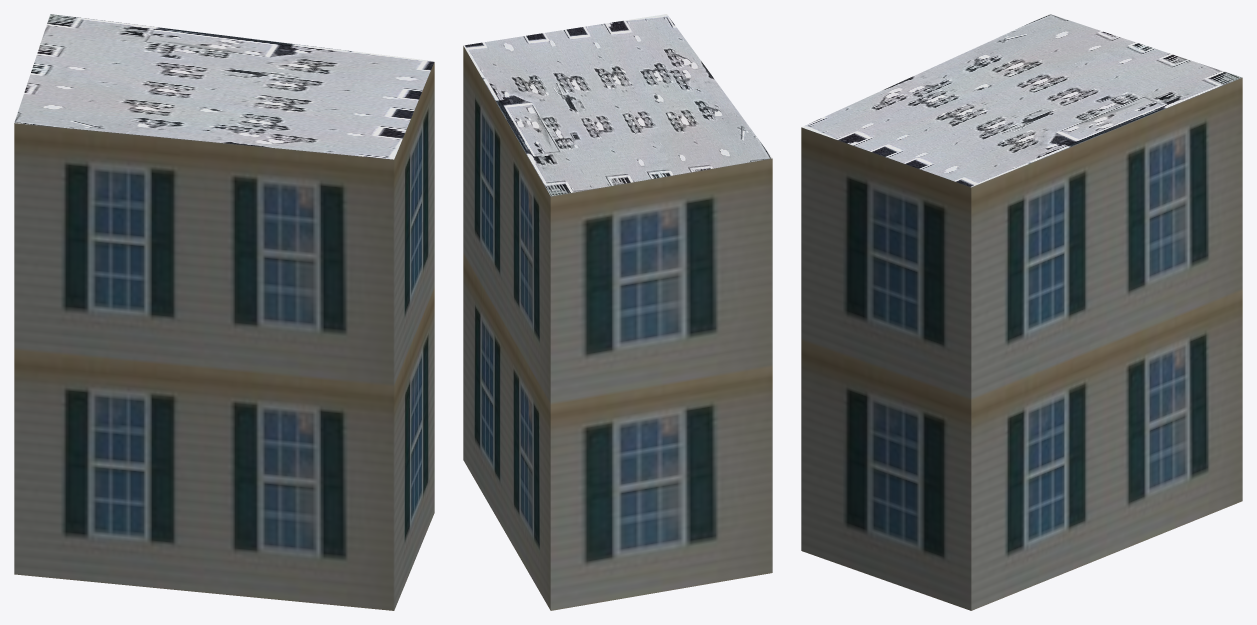
File: ResTex__869.fbx
3 views of the same model, side by side, from view 1: azimuth 30°, elevation 25°; view 2: azimuth 150°, elevation 25°; view 3: azimuth 270°, elevation 25° (orthographic). The views are drawn at different scales.
Visible parts, largest first — view 1: CityEngineMaterial_7_m, CityEngineMaterial_m; view 2: CityEngineMaterial_7_m, CityEngineMaterial_m; view 3: CityEngineMaterial_7_m, CityEngineMaterial_m.
Part boxes in pixels (x1,y1,x2,y2): CityEngineMaterial_7_m: (14, 62, 434, 610); CityEngineMaterial_m: (14, 14, 434, 159); CityEngineMaterial_7_m: (463, 46, 772, 610); CityEngineMaterial_m: (463, 14, 772, 196); CityEngineMaterial_7_m: (801, 77, 1242, 610); CityEngineMaterial_m: (801, 14, 1241, 187).
Size of the model in its own units: 5.27 by 6 by 5.67.
2 materials, 2 textured.
